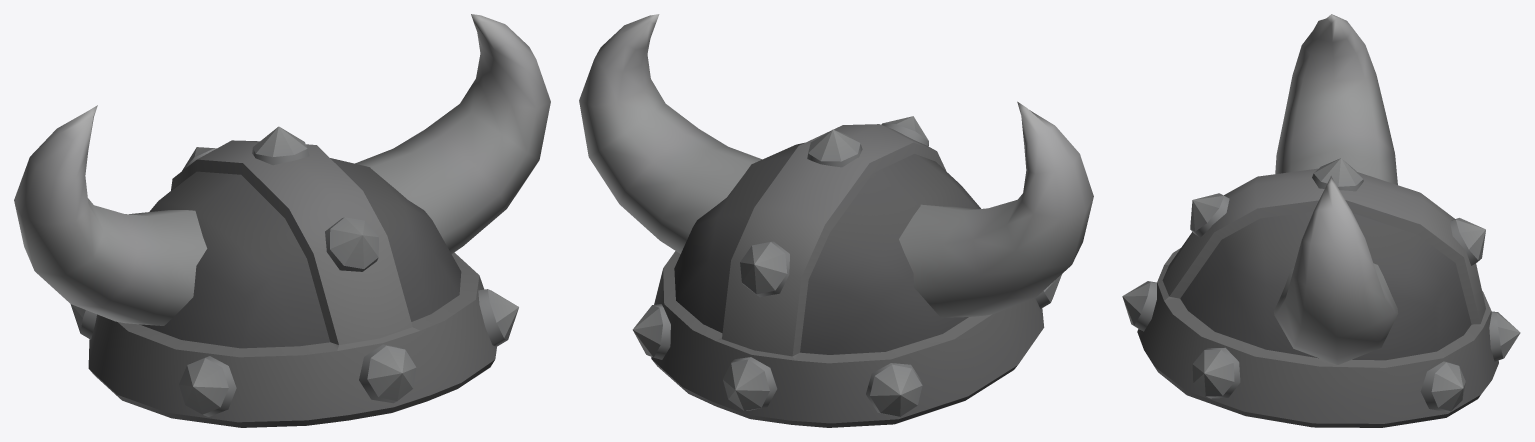
The model's file is Head_4.fbx.
The picture shows the model from 3 angles, left to right: view 1: azimuth 30°, elevation 25°; view 2: azimuth 150°, elevation 25°; view 3: azimuth 270°, elevation 25°; orthographic projection. The views are drawn at different scales.
Parts seen in each view (by area): view 1: Head_4; view 2: Head_4; view 3: Head_4.
Boxes of the visible parts, bbox=[...] form: Head_4: bbox=[14, 14, 550, 427]; Head_4: bbox=[579, 14, 1093, 427]; Head_4: bbox=[1122, 14, 1520, 427].
Bounding box in the file's own units: 107 × 61.14 × 80.16.
